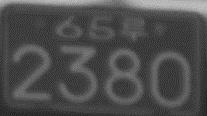0: (149, 49, 192, 110)
2: (12, 42, 55, 102)
3: (58, 45, 98, 103)
5: (89, 13, 115, 41)
6: (56, 14, 83, 39)
8: (103, 46, 143, 106)
루: (121, 14, 145, 43)
